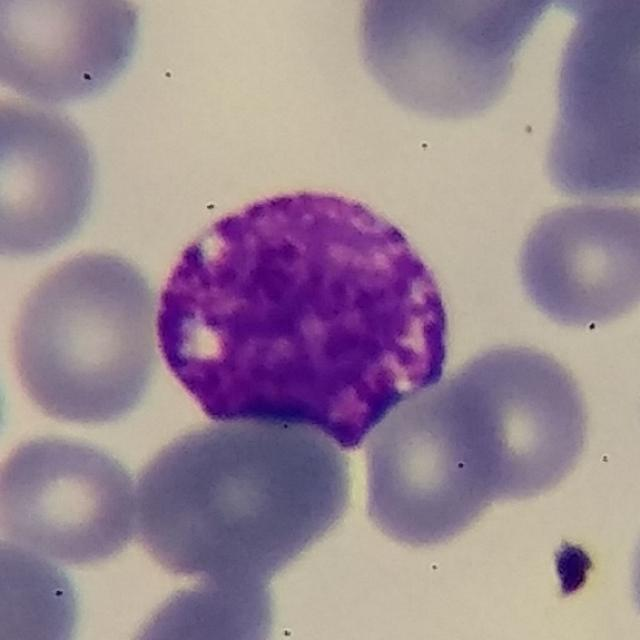baso: (153, 182, 460, 457)
